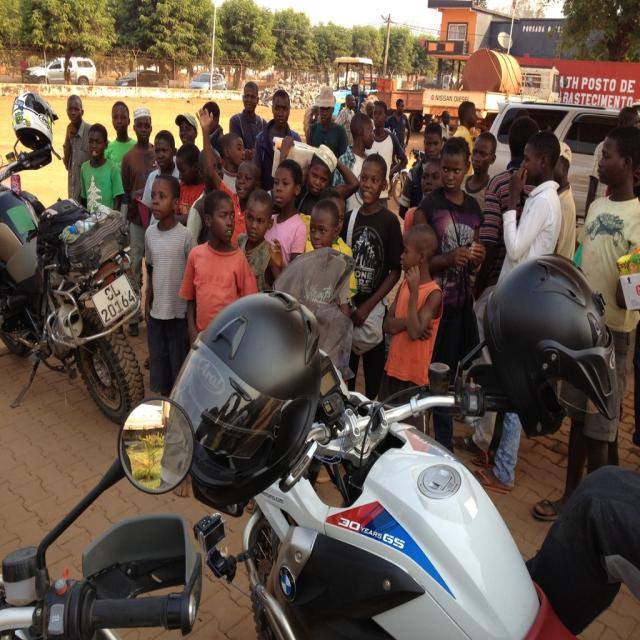car: (16, 49, 96, 83), (188, 64, 224, 91), (120, 67, 159, 85)
